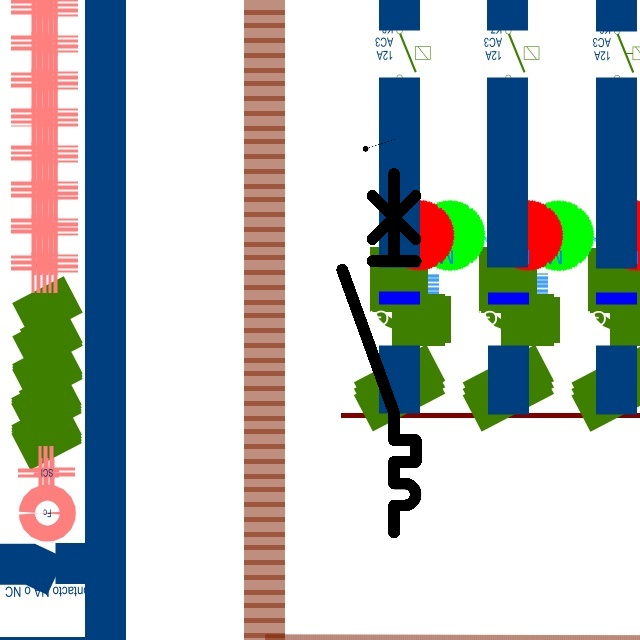interruptor_termomagnetico: (333, 164, 425, 542)
